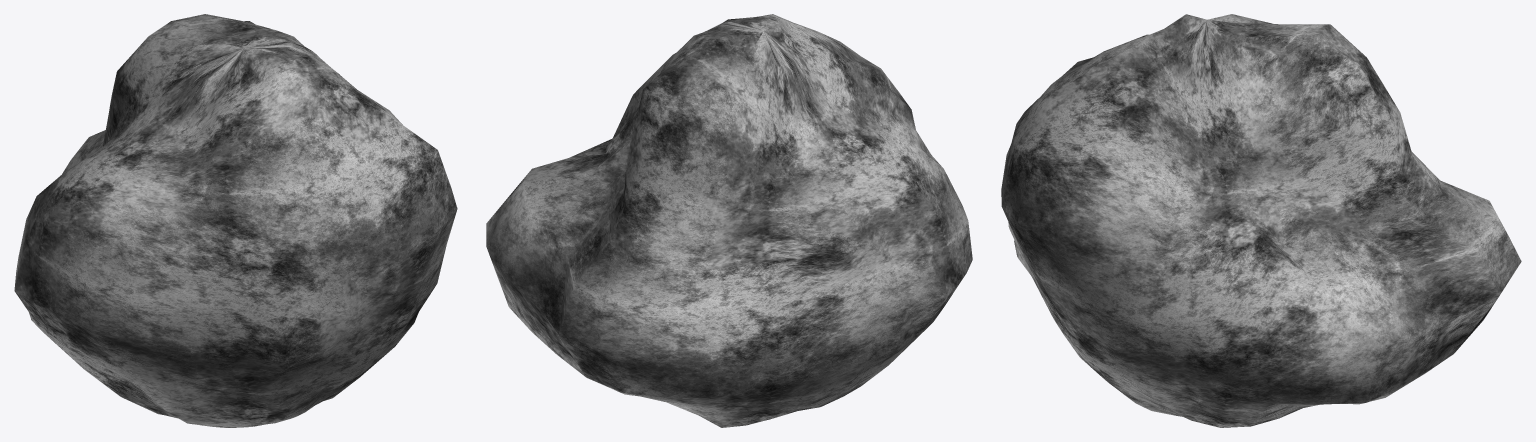
The model's file is Meteoroid01f.fbx.
The picture shows the model from 3 angles, left to right: view 1: azimuth 30°, elevation 25°; view 2: azimuth 150°, elevation 25°; view 3: azimuth 270°, elevation 25°; orthographic projection. The views are drawn at different scales.
Visible parts, largest first — view 1: Meteoroid01f; view 2: Meteoroid01f; view 3: Meteoroid01f.
Part boxes in pixels (x1,y1,x2,y2): Meteoroid01f: [14, 14, 457, 427]; Meteoroid01f: [486, 14, 972, 427]; Meteoroid01f: [1001, 14, 1521, 427].
Size of the model in its own units: 404 by 328 by 391.
